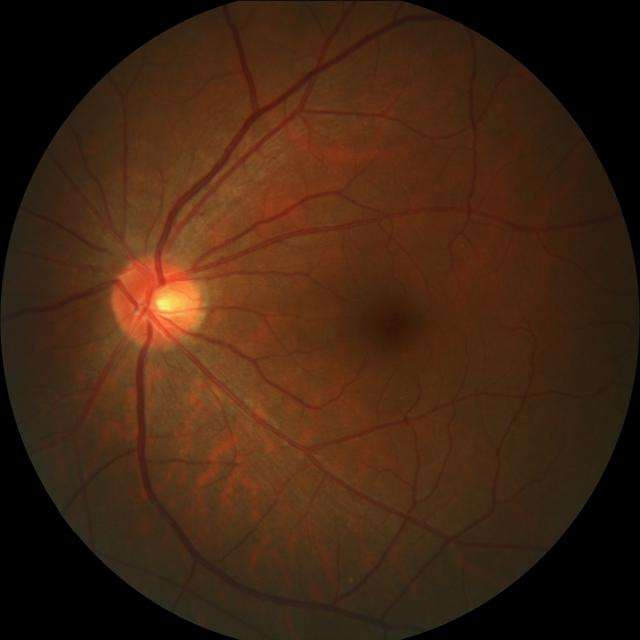OC: (138, 275, 184, 325)
OD: (112, 254, 201, 346)
